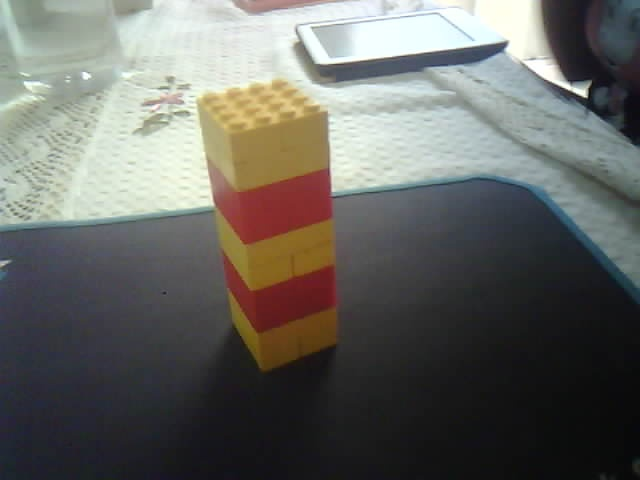lego: (196, 79, 340, 374)
